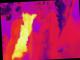Foc: (5, 6, 37, 59)
